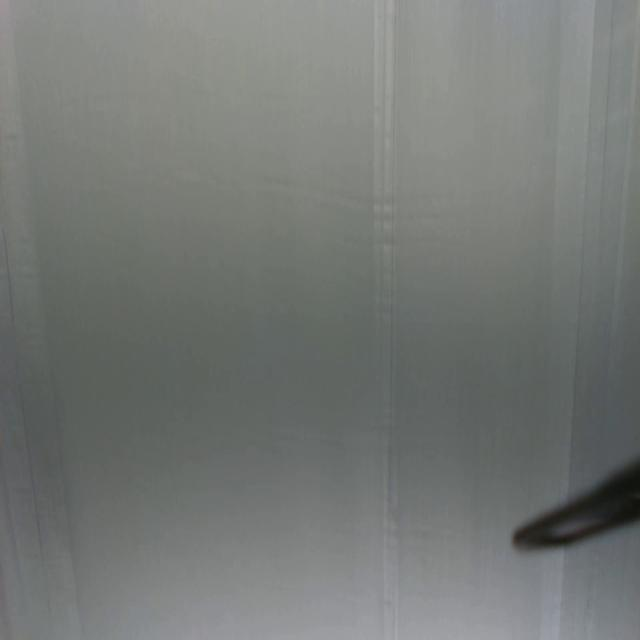crease: (0, 212, 55, 629), (557, 0, 598, 450), (372, 0, 398, 633), (601, 0, 616, 190)
